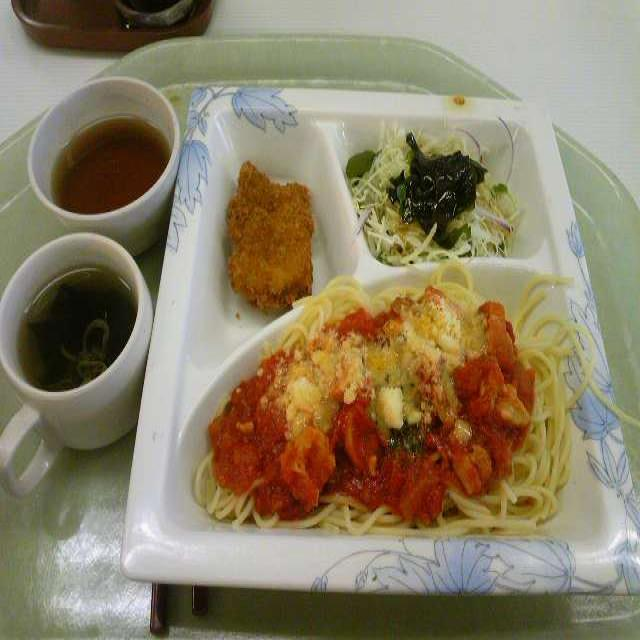Green Salad: (354, 124, 514, 268)
